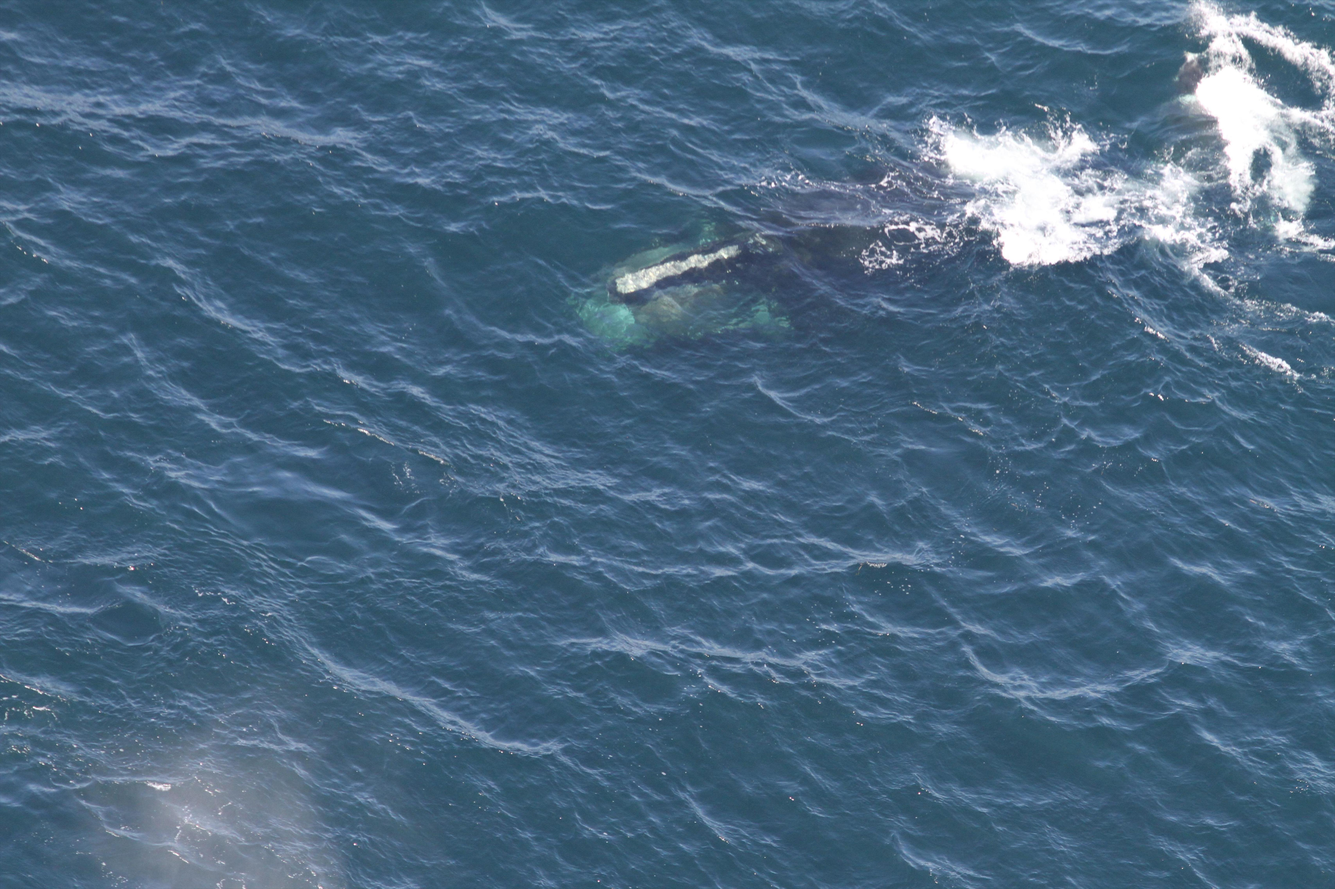whale: (560, 51, 1269, 372)
